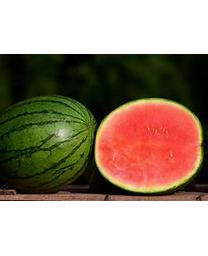watermelon: (92, 98, 203, 195), (1, 95, 93, 193)
